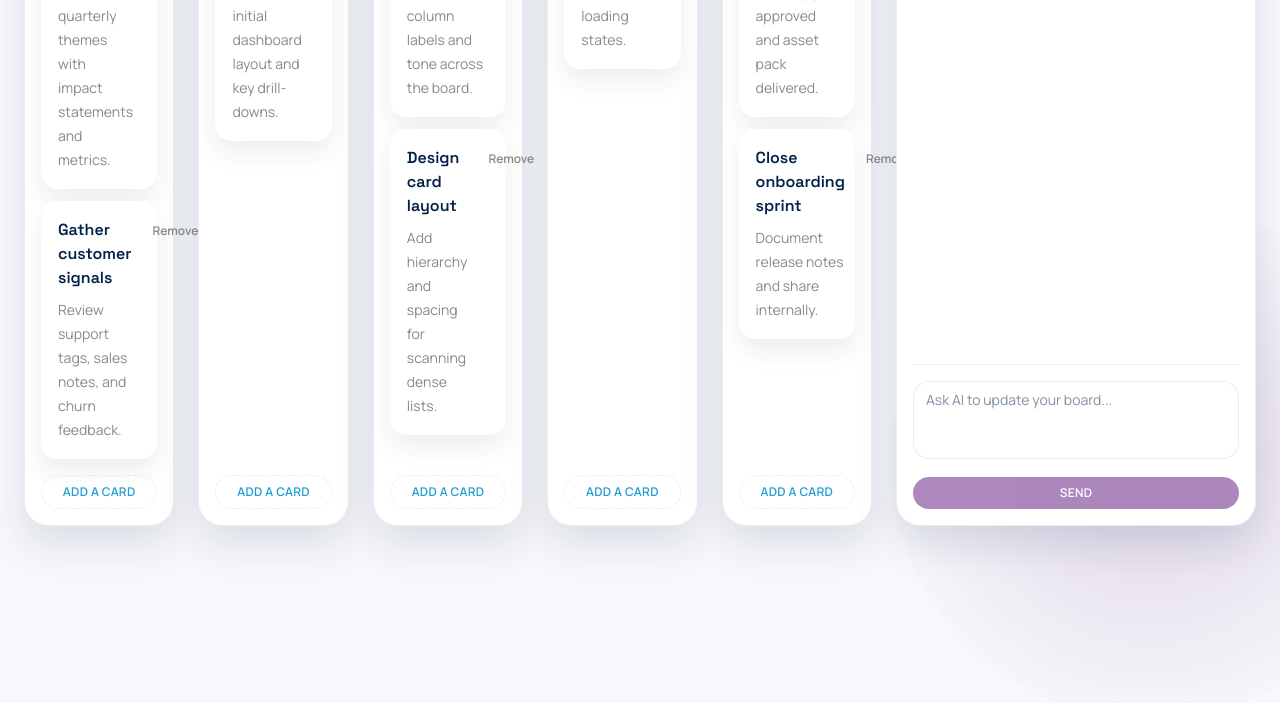
KanbanBoard › applies AI board updates returned from backend
(page scrolled)
In the text box named "Message AI assistant": (1076, 420) [913,381,1239,459], type "Rename the first column to AI Updated Backlog"
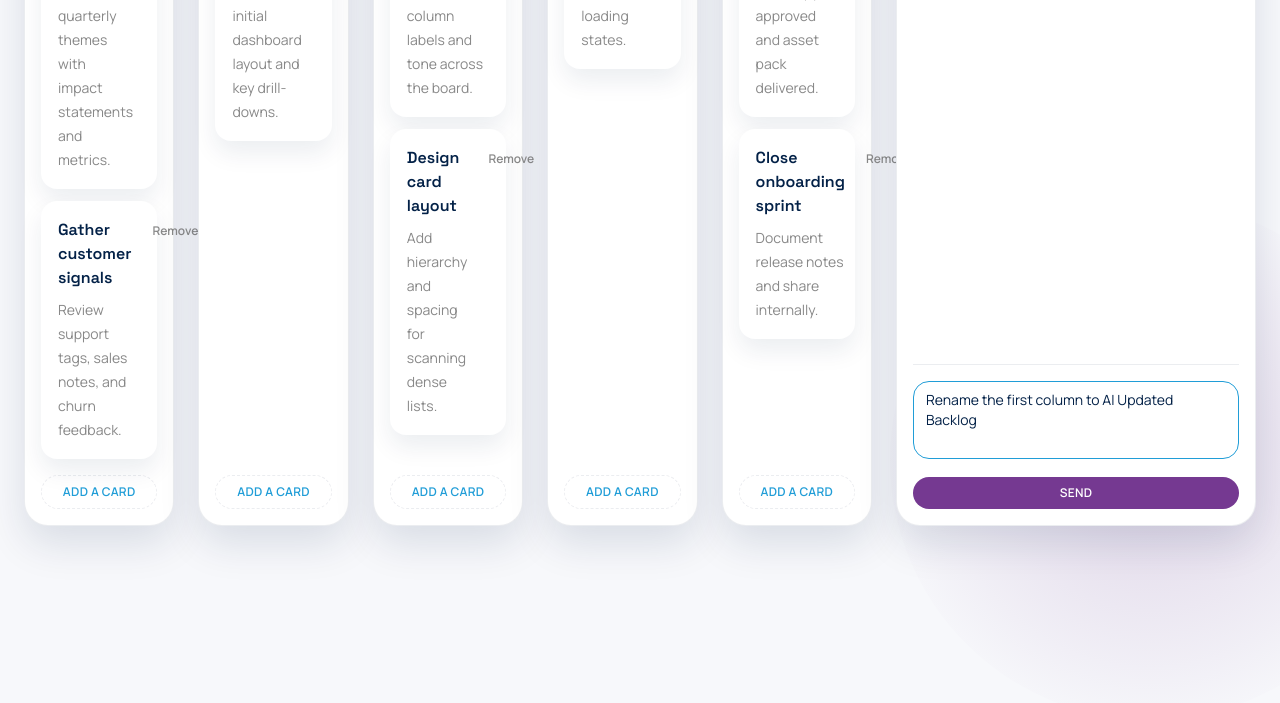
Click the button "Send": (1076, 493) [913,477,1239,509]
(page scrolled)
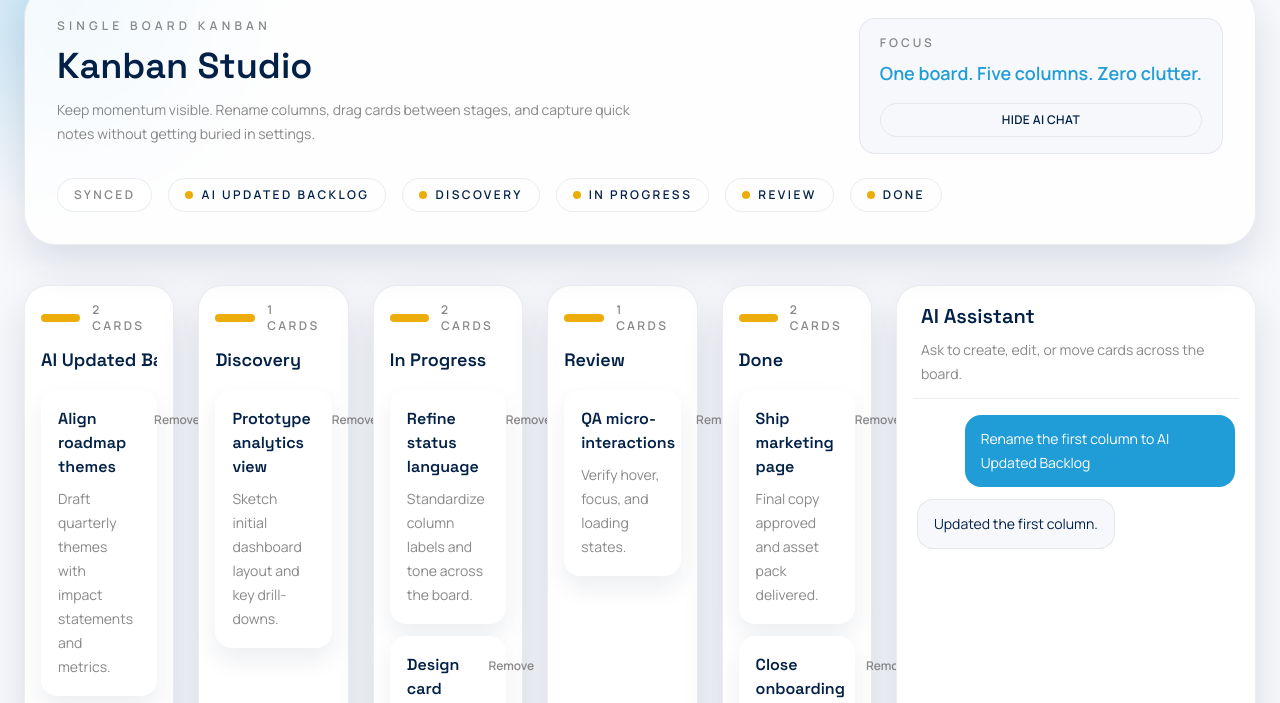
Expected: the text "Updated the first column." is shown, [917,499,1115,549]
Expected: the 1st field named "Column title" holds "AI Updated Backlog", [41,346,157,374]
